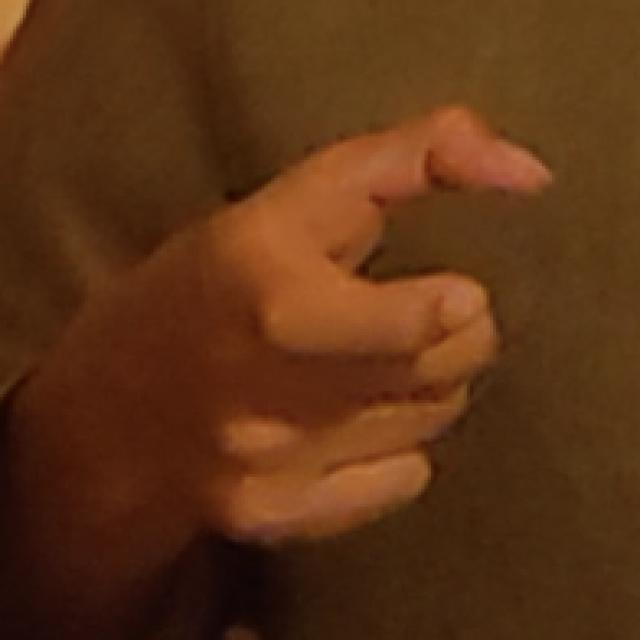Q: (47, 83, 566, 582)
